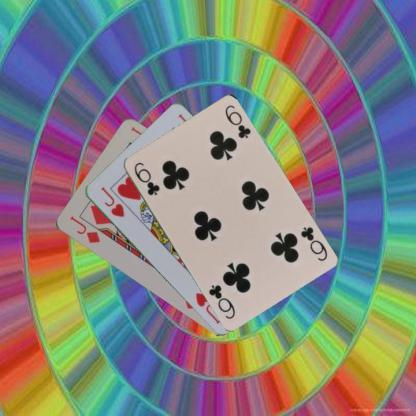6c: (131, 159, 161, 197), (298, 224, 328, 262)
Jd: (67, 213, 101, 245)
Jh: (97, 184, 125, 218)
